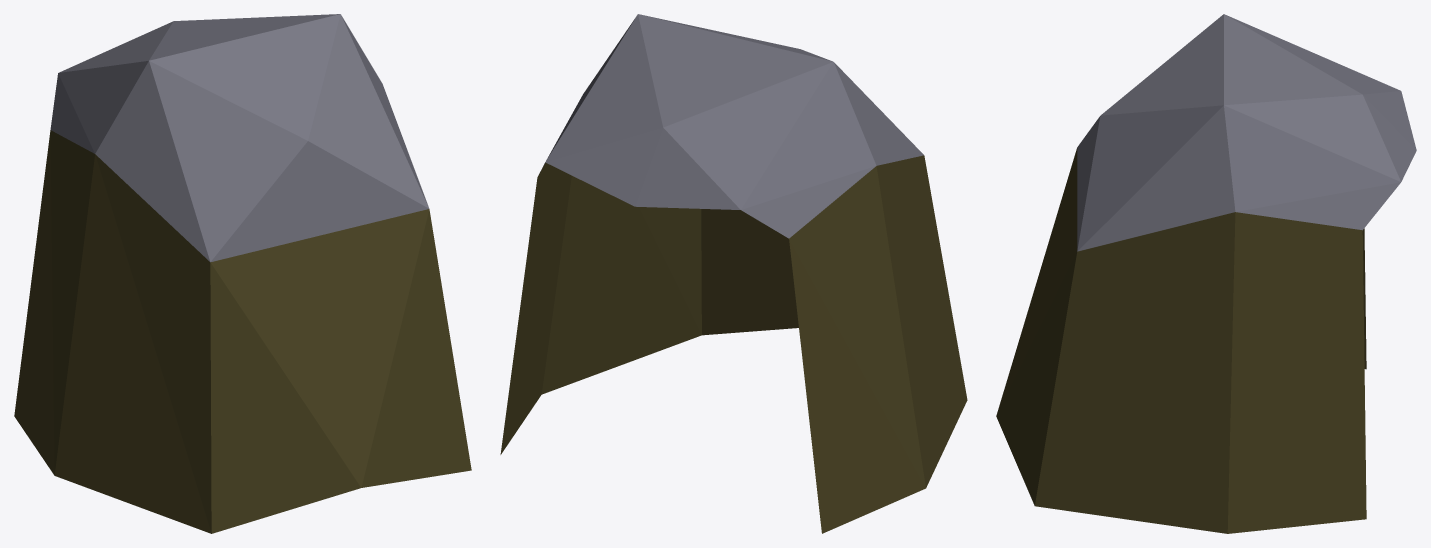
Rendered from npc_chat_ranging_guild_doorman_2.obj.
The picture shows the model from 3 angles, left to right: view 1: azimuth 30°, elevation 25°; view 2: azimuth 150°, elevation 25°; view 3: azimuth 270°, elevation 25°; orthographic projection. The views are drawn at different scales.
Bounding box in the file's own units: 0.8594 × 0.8594 × 0.8516.
